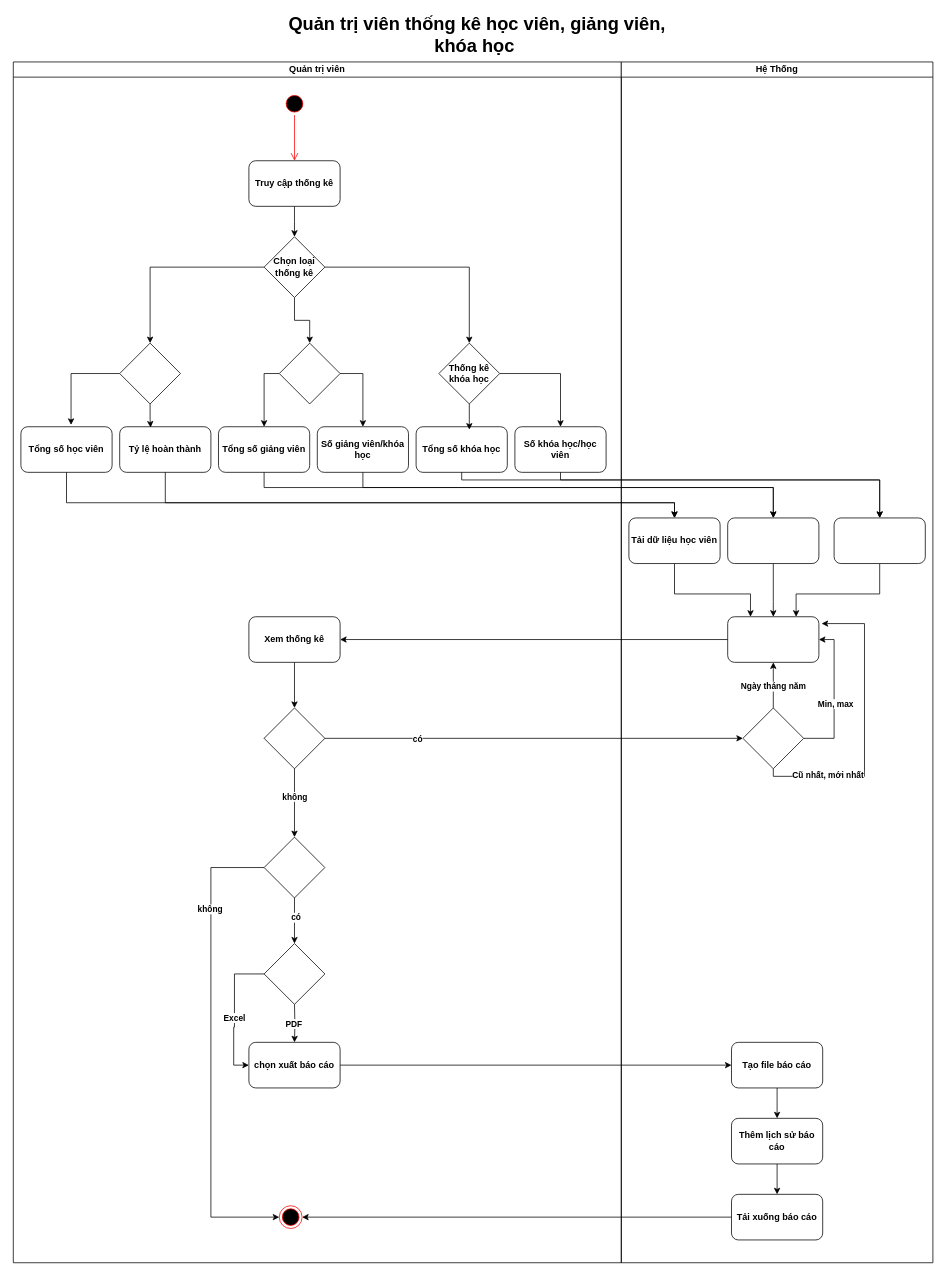
This 946x1276 diagram has some shape labels left out. Here are the shapes that lost their labels. From the top down, the centre of each, then its label:
At point (149, 373): "Thống kê học viên".
At point (309, 373): "Thống kê giảng viên".
At point (773, 540): "Tải dữ liệu giảng viên".
At point (879, 540): "Tải dữ liệu khóa học".
At point (773, 639): "Hiển thị danh sách thống kê".
At point (294, 738): "Muốn hiển thị theo bộ lọc".
At point (773, 738): "Lọc theo".
At point (294, 867): "Xuất báo cáo".
At point (294, 973): "Chọn định dạng".
